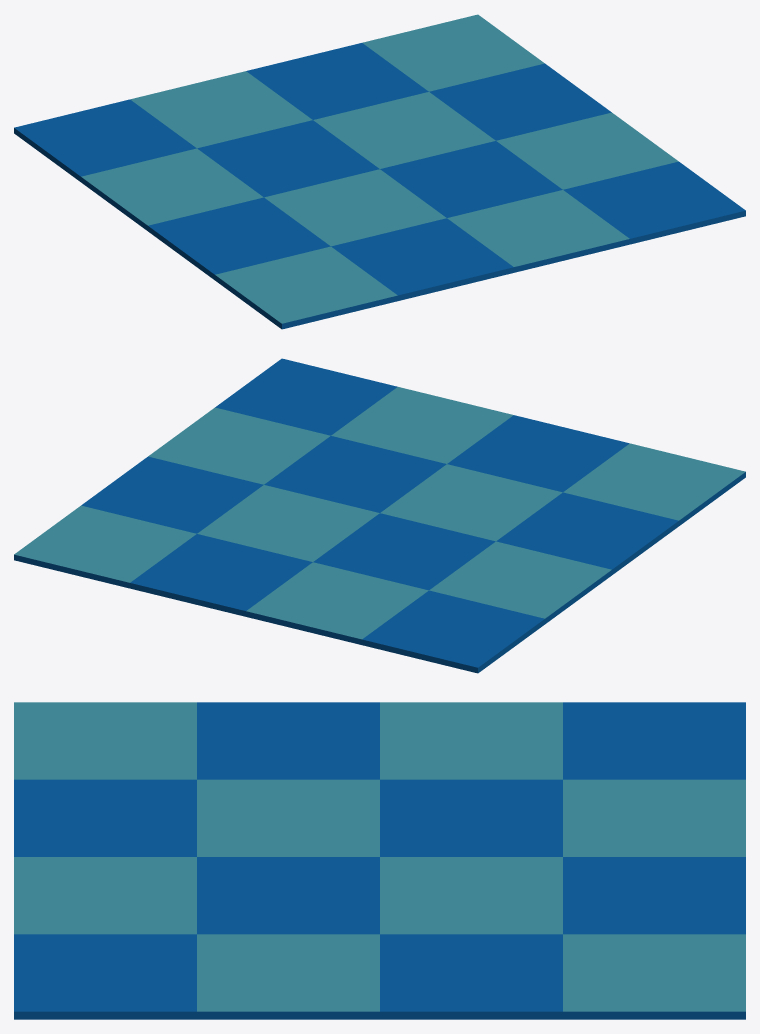
The model's file is plan.obj.
The picture shows the model from 3 angles, top to bottom: view 1: azimuth 30°, elevation 25°; view 2: azimuth 150°, elevation 25°; view 3: azimuth 270°, elevation 25°; orthographic projection. The views are drawn at different scales.
Parts seen in each view (by area): view 1: Lantai_Cube.001; view 2: Lantai_Cube.001; view 3: Lantai_Cube.001.
Part boxes in pixels (x1,y1,x2,y2): Lantai_Cube.001: [14, 14, 745, 329]; Lantai_Cube.001: [14, 358, 745, 673]; Lantai_Cube.001: [14, 702, 745, 1019].
Bounding box in the file's own units: 87.82 × 1.04 × 87.82.
